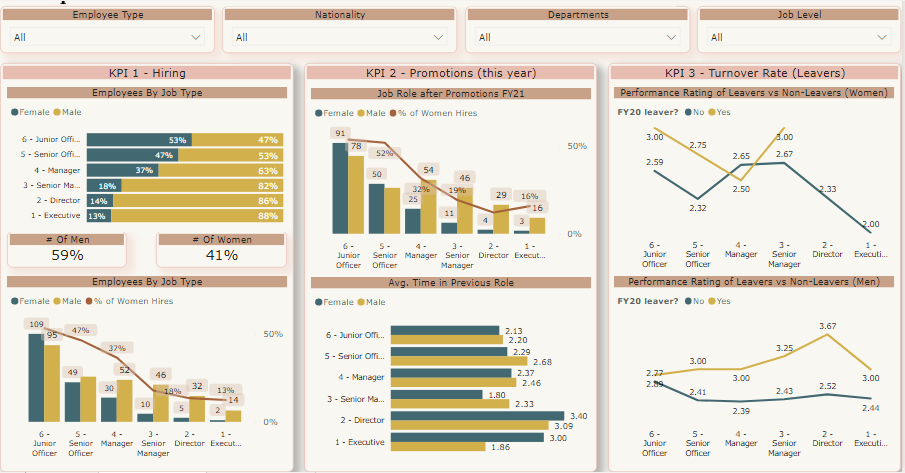

Layout of this report page (visuals, bound fields, positions):
{"tool":"powerbi","page":{"name":"Dashboard 1","canvas":[1280,720],"ordinal":1},"visuals":[{"type":"textbox","title":"KPI 3 - Turnover Rate (Leavers)","box":[863.5,139.3,416.5,580.8],"z":0},{"type":"textbox","title":"KPI 2 - Promotions (this year)","box":[431.8,139.3,416.5,580.8],"z":1000},{"type":"textbox","title":"KPI 1 - Hiring","box":[0,139.6,416.6,580.7],"z":2000},{"type":"card","title":"# Of Men","fields":{"Values":["Backing 1.NofMen"]},"box":[9.6,377.9,170.3,51.6],"z":3000},{"type":"card","title":"# Of Women","fields":{"Values":["Backing 1.NofWomen"]},"box":[221.9,377.9,185.9,51.6],"z":4000},{"type":"hundredPercentStackedBarChart","title":"Employees By Job Type","fields":{"Category":["Pharma Group AG.Job Level after FY20 promotions"],"Series":["Pharma Group AG.Gender"],"Y":["Pharma Group AG.Employee ID"]},"box":[9.6,173.9,398.3,206.3],"z":5000},{"type":"slicer","title":"Employee Type","fields":{"Values":["Pharma Group AG.Time type","Pharma Group AG.FTE group"]},"box":[0,58.2,304.9,67.5],"z":6000},{"type":"slicer","title":"Nationality","fields":{"Values":["Pharma Group AG.Nationality 1"]},"box":[315.3,58.2,334,67.5],"z":7000},{"type":"slicer","title":"Departments","fields":{"Values":["Pharma Group AG.Department @01.07.2020"]},"box":[660.9,58.2,320,67.5],"z":8000},{"type":"image","box":[43.2,1.2,148.8,58.8],"z":9000},{"type":"textbox","box":[304.9,9.6,655.1,49.4],"z":10000},{"type":"slicer","title":"Job Level","fields":{"Values":["Pharma Group AG.Job Level after FY20 promotions"]},"box":[990.3,58.2,289.7,67.5],"z":11000},{"type":"lineClusteredColumnComboChart","title":"Employees By Job Type","fields":{"Category":["Pharma Group AG.Job Level after FY20 promotions"],"Series":["Pharma Group AG.Gender"],"Y":["Pharma Group AG.Employee ID"],"Y2":["Backing 1.NofWomen"]},"box":[10.5,442.2,398,265.3],"z":12000},{"type":"lineClusteredColumnComboChart","title":"Job Role after Promotions FY21","fields":{"Series":["Pharma Group AG.Gender"],"Y":["Pharma Group AG.Employee ID"],"Y2":["Backing 1.NofWomen"],"Category":["Pharma Group AG.Job Level after FY21 promotions"]},"box":[441.5,174.1,398.3,264.6],"z":13000},{"type":"clusteredBarChart","title":"Avg. Time in Previous Role ","fields":{"Series":["Pharma Group AG.Gender"],"Y":["Pharma Group AG.Time in Job Level @01.07.2020"],"Category":["Pharma Group AG.Job Level after FY20 promotions"]},"box":[441.5,442.7,398.3,265.1],"z":14000},{"type":"lineChart","title":"Performance Rating of Leavers vs Non-Leavers (Women) ","fields":{"Category":["Pharma Group AG.Job Level after FY20 promotions"],"Y":["Pharma Group AG.FY19 Performance Rating"],"Series":["Pharma Group AG.FY20 leaver?"]},"box":[872.1,173.9,398.3,265.1],"z":15000},{"type":"lineChart","title":"Performance Rating of Leavers vs Non-Leavers (Men) ","fields":{"Category":["Pharma Group AG.Job Level after FY20 promotions"],"Y":["Pharma Group AG.FY19 Performance Rating"],"Series":["Pharma Group AG.FY20 leaver?"]},"box":[872.1,441.5,398.3,265.1],"z":16000},{"type":"actionButton","box":[1226,10.8,54,39.6],"z":17000},{"type":"image","box":[0,10.8,54,39.6],"z":18000}]}

Visuals, with their boxes on the page's 1280x720 design canvas (x1, y1, x2, y2). These are canvas units, not pixel positions in the 905x473 screenshot, which may show the page scaled, cropped or inside an application window:
"KPI 3 - Turnover Rate (Leavers)" textbox: <region>864, 139, 1280, 720</region>
"KPI 2 - Promotions (this year)" textbox: <region>432, 139, 848, 720</region>
"KPI 1 - Hiring" textbox: <region>0, 140, 417, 720</region>
"# Of Men" card: <region>10, 378, 180, 430</region>
"# Of Women" card: <region>222, 378, 408, 430</region>
"Employees By Job Type" hundredPercentStackedBarChart: <region>10, 174, 408, 380</region>
"Employee Type" slicer: <region>0, 58, 305, 126</region>
"Nationality" slicer: <region>315, 58, 649, 126</region>
"Departments" slicer: <region>661, 58, 981, 126</region>
image: <region>43, 1, 192, 60</region>
textbox: <region>305, 10, 960, 59</region>
"Job Level" slicer: <region>990, 58, 1280, 126</region>
"Employees By Job Type" lineClusteredColumnComboChart: <region>10, 442, 408, 708</region>
"Job Role after Promotions FY21" lineClusteredColumnComboChart: <region>442, 174, 840, 439</region>
"Avg. Time in Previous Role " clusteredBarChart: <region>442, 443, 840, 708</region>
"Performance Rating of Leavers vs Non-Leavers (Women) " lineChart: <region>872, 174, 1270, 439</region>
"Performance Rating of Leavers vs Non-Leavers (Men) " lineChart: <region>872, 442, 1270, 707</region>
actionButton: <region>1226, 11, 1280, 50</region>
image: <region>0, 11, 54, 50</region>
